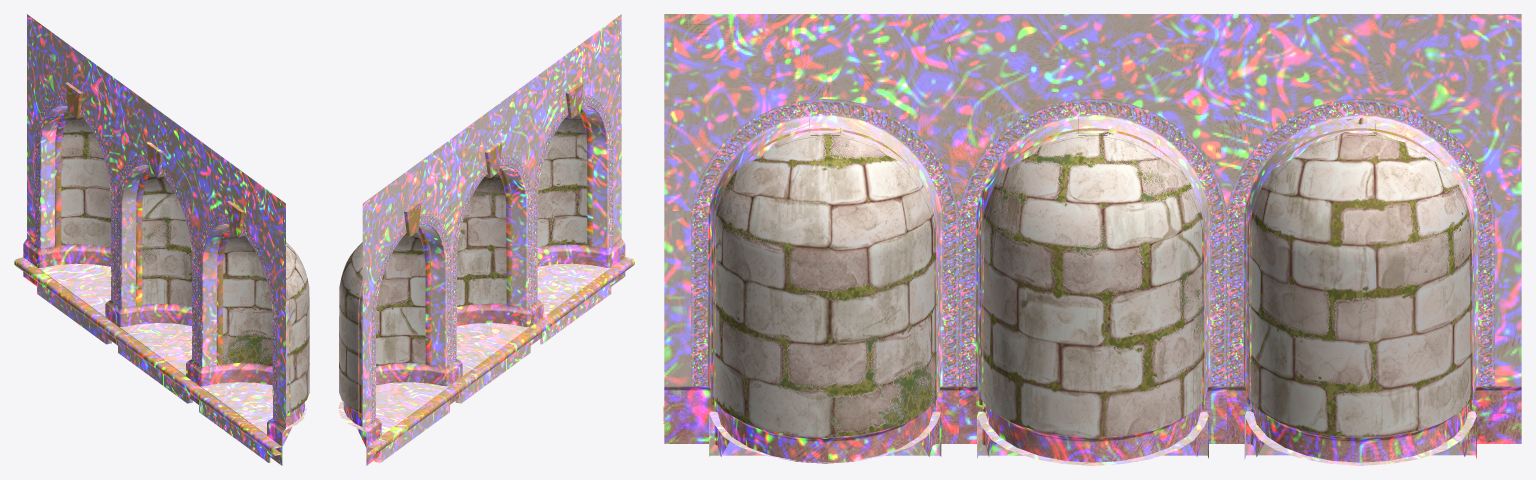
File: alcove_straight_SM.fbx
3 renders of one model, left to right at view 1: azimuth 30°, elevation 25°; view 2: azimuth 150°, elevation 25°; view 3: azimuth 270°, elevation 25°, orthographic. The views are drawn at different scales.
Parts seen in each view (by area): view 1: alcove_straight_SM_LOD0; view 2: alcove_straight_SM_LOD0; view 3: alcove_straight_SM_LOD0.
Part boxes in pixels (left/top/right/bottom): alcove_straight_SM_LOD0: left=14, top=14, right=309, bottom=465; alcove_straight_SM_LOD0: left=338, top=14, right=634, bottom=465; alcove_straight_SM_LOD0: left=663, top=14, right=1521, bottom=465.
Bounding box in the file's own units: 167 × 977 × 559.
5 materials, 5 textured.
